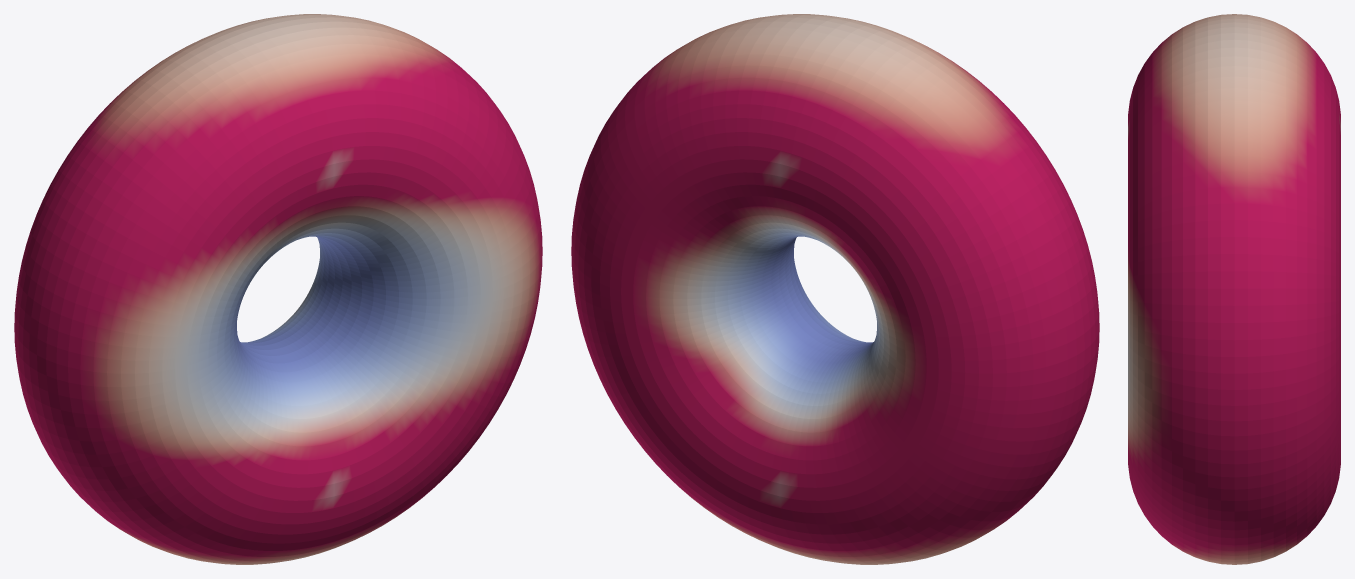
3 renders of one model, left to right at view 1: azimuth 30°, elevation 25°; view 2: azimuth 150°, elevation 25°; view 3: azimuth 270°, elevation 25°, orthographic. The views are drawn at different scales.
Parts seen in each view (by area): view 1: world; view 2: world; view 3: world.
Boxes of the visible parts, x1,y1,x2,y2 form: world: (14,14,542,564); world: (571,14,1099,564); world: (1128,14,1340,564).
Size of the model in its own units: 23.56 by 23.56 by 9.09.
